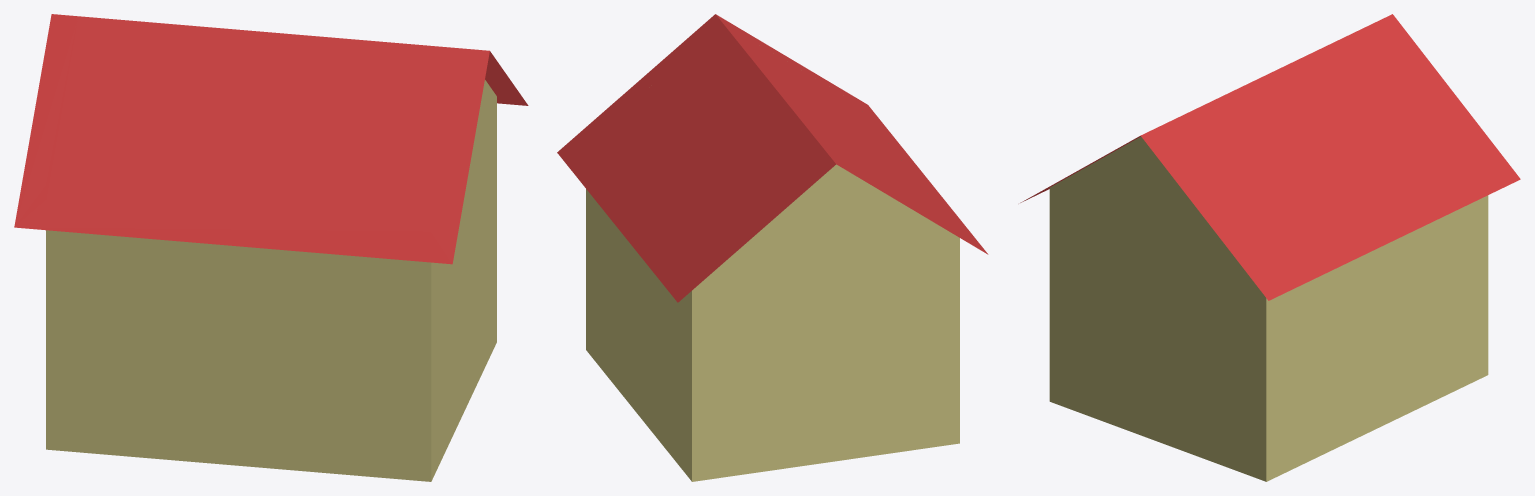
3 renders of one model, left to right at view 1: azimuth 30°, elevation 25°; view 2: azimuth 150°, elevation 25°; view 3: azimuth 270°, elevation 25°, orthographic. The views are drawn at different scales.
Size of the model in its own units: 16.42 by 16.27 by 11.14.
